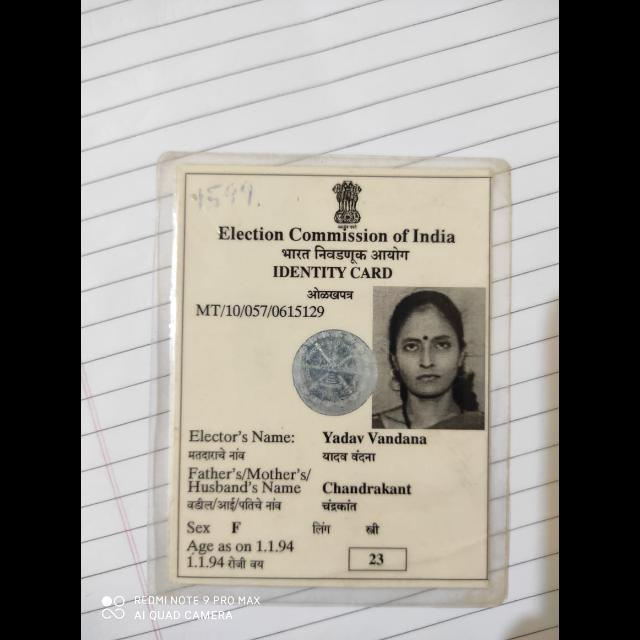voter_id: (166, 161, 500, 587)
